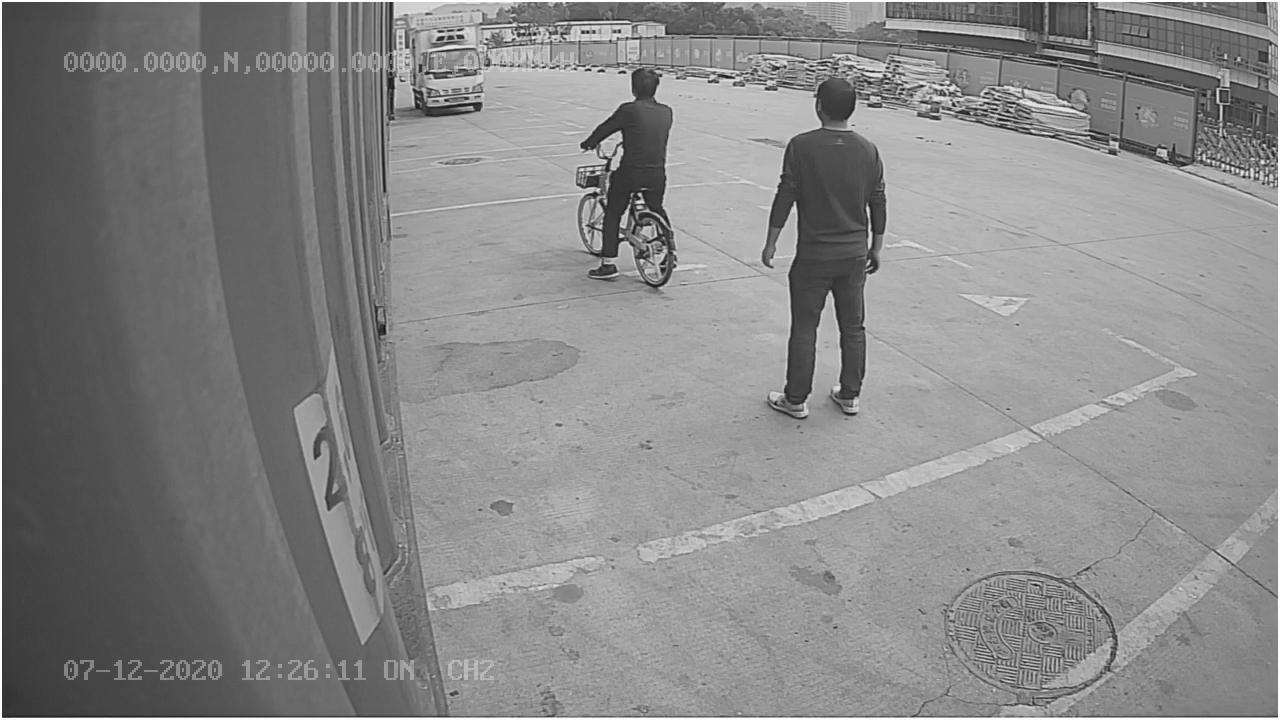person: (753, 69, 894, 423)
